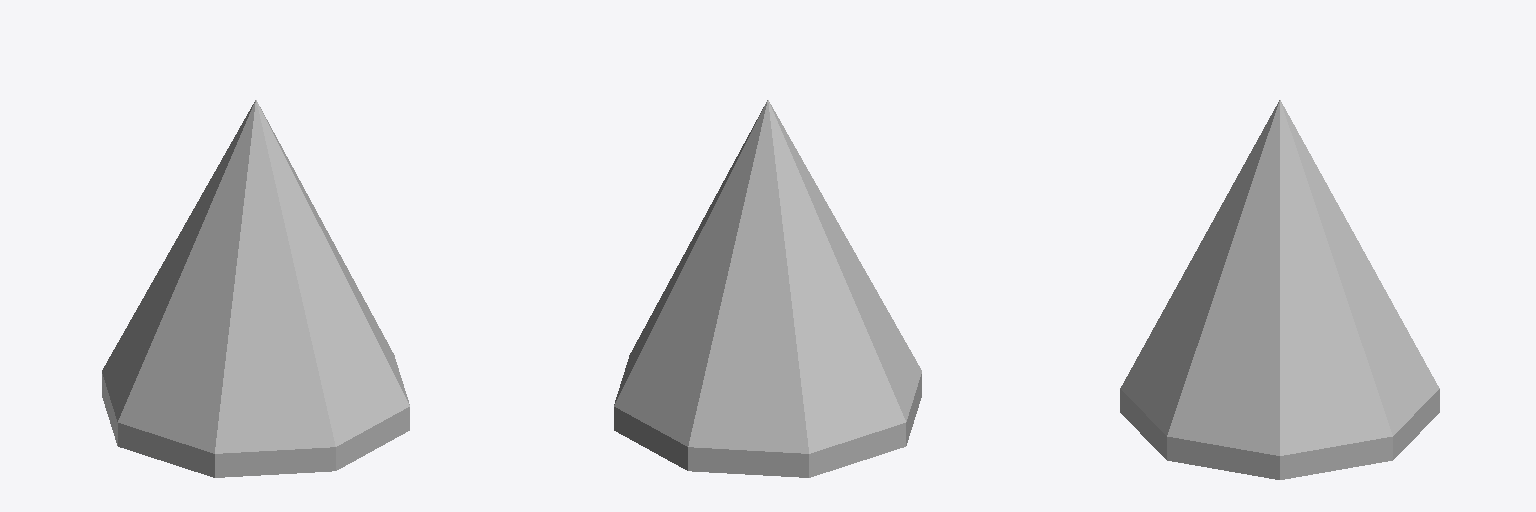
File: player.obj
3 views of the same model, side by side, from view 1: azimuth 30°, elevation 25°; view 2: azimuth 150°, elevation 25°; view 3: azimuth 270°, elevation 25° (orthographic).
Visible parts, largest first — view 1: Cone; view 2: Cone; view 3: Cone.
Part boxes in pixels (x1,y1,x2,y2): Cone: (102, 100, 409, 477); Cone: (614, 100, 921, 477); Cone: (1120, 100, 1439, 479).
Size of the model in its own units: 2 by 2.17 by 2.